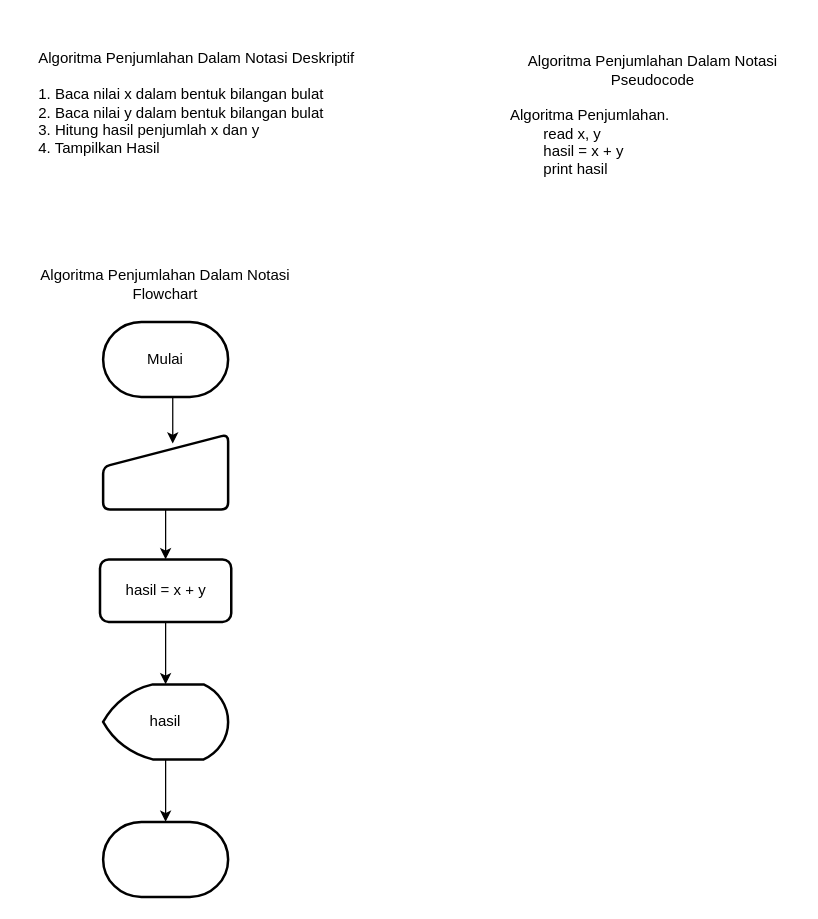
The diagram is 818 pixels wide and 919 high, and some of its shapes have lost their labels. The centre of each missing label's shape, as x and y in pixels:
"Selesaii" goes at point 165,859.
"x, y" goes at point 165,471.
